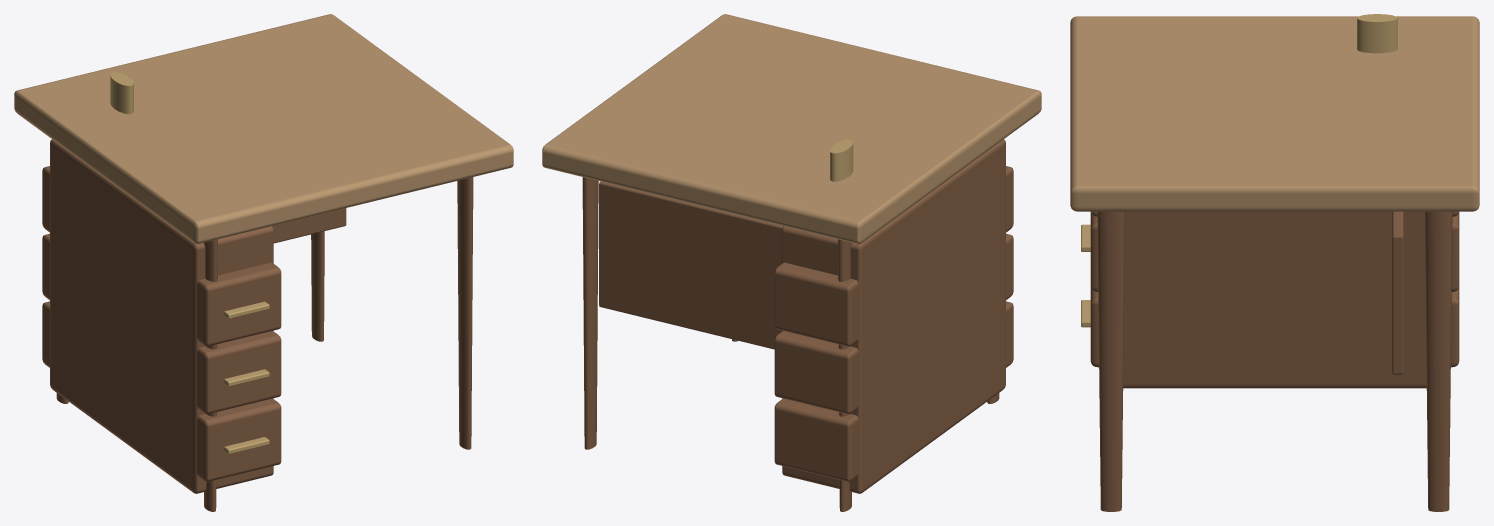
Rendered from desk-5-4.glb.
3 views of the same model, side by side, from view 1: azimuth 30°, elevation 25°; view 2: azimuth 150°, elevation 25°; view 3: azimuth 270°, elevation 25° (orthographic). The views are drawn at different scales.
Parts seen in each view (by area): view 1: upholstery (×2), part; view 2: part, upholstery (×2); view 3: upholstery (×2), part.
Boxes of the visible parts, box(x1,y1,x2,y2) form: upholstery (×2): box(14, 14, 513, 454); part: box(42, 139, 473, 511); part: box(582, 139, 1013, 511); upholstery (×2): box(542, 14, 1041, 244); upholstery (×2): box(1070, 14, 1479, 327); part: box(1090, 211, 1459, 511).
Bounding box in the file's own units: 1 × 1 × 1.
